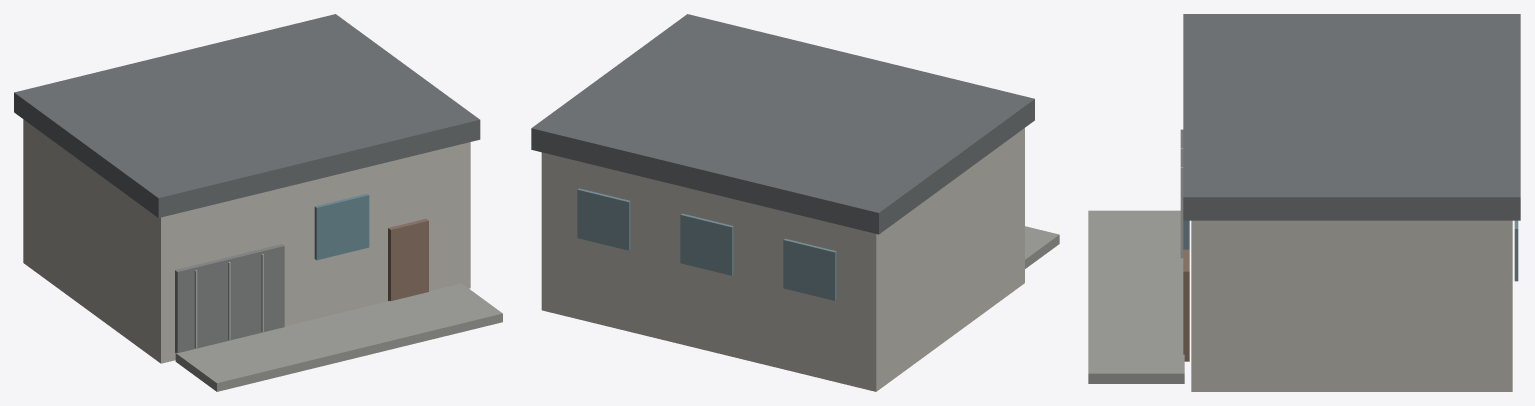
Rendered from suburban_home_garage.glb.
3 views of the same model, side by side, from view 1: azimuth 30°, elevation 25°; view 2: azimuth 150°, elevation 25°; view 3: azimuth 270°, elevation 25° (orthographic). The views are drawn at different scales.
Parts seen in each view (by area): view 1: m1, m0, m11, m2, m7, m6; view 2: m0, m1, m9, m10, m8, m11; view 3: m1, m0, m11, m6.
Boxes of the visible parts, box(x1,y1,x2,y2) form: m1: box(14, 14, 480, 217); m0: box(23, 119, 470, 363); m11: box(175, 283, 502, 391); m2: box(175, 244, 284, 353); m7: box(314, 194, 369, 260); m6: box(388, 219, 428, 300); m0: box(541, 128, 1024, 391); m1: box(531, 14, 1034, 234); m9: box(680, 213, 733, 275); m10: box(577, 188, 630, 250); m8: box(783, 238, 836, 300); m11: box(1025, 226, 1059, 268); m1: box(1183, 14, 1520, 220); m0: box(1191, 220, 1512, 391); m11: box(1088, 210, 1184, 383); m6: box(1183, 249, 1189, 361).
Bounding box in the file's own units: 13.5 × 6.8 × 13.45.
